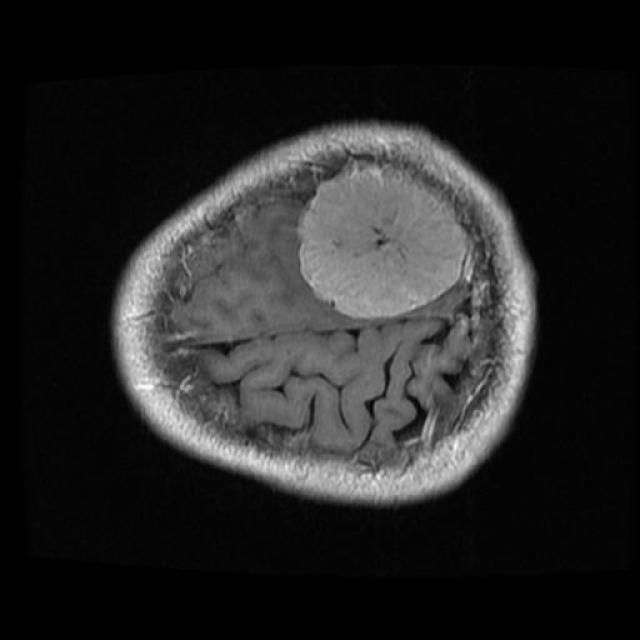Meningioma: (300, 164, 467, 319)
